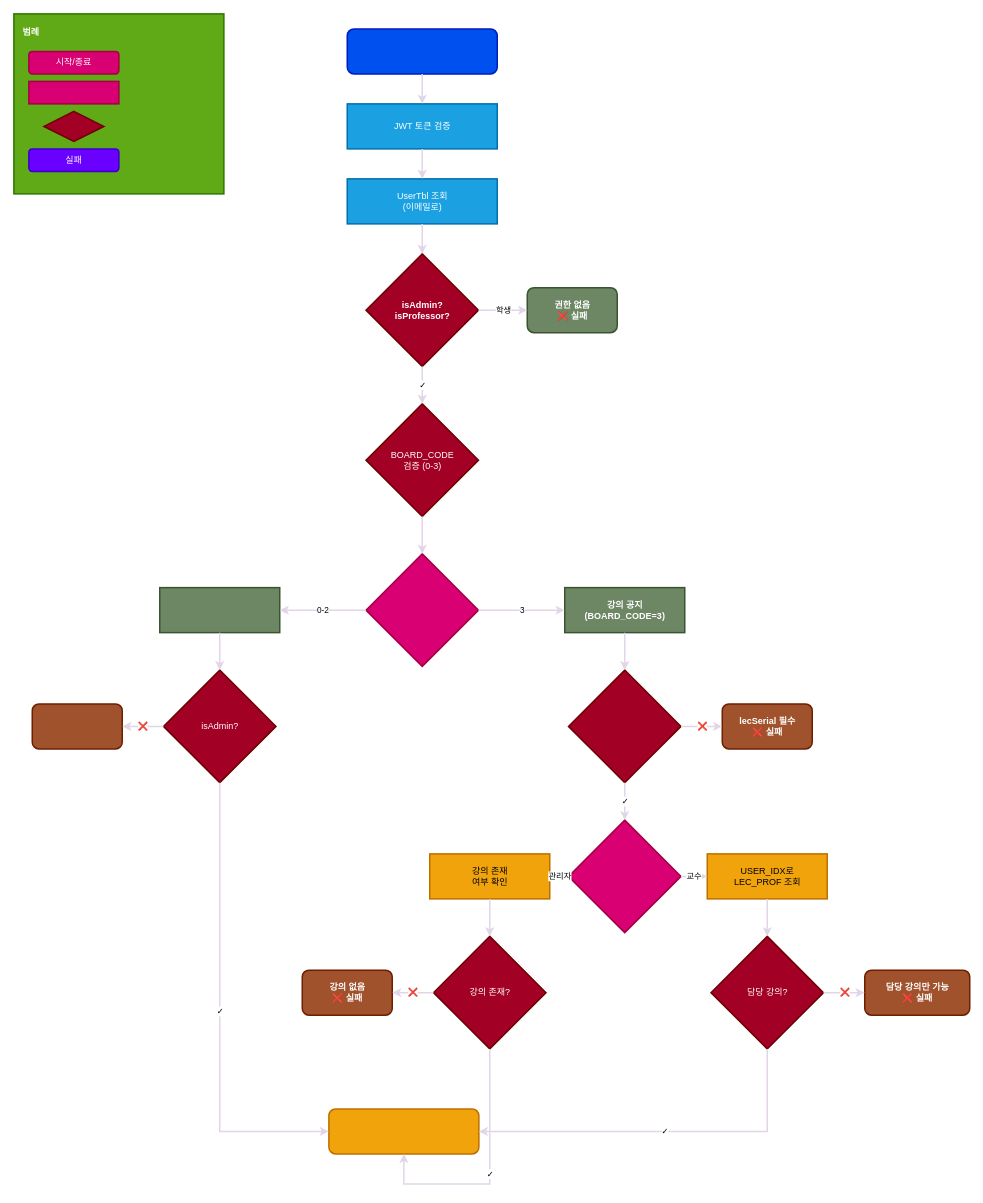
The diagram is 983 pixels wide and 1203 high, and some of its shapes have lost their labels. Each missing label, with the centre of its shape:
"BOARD_CODE?" belongs at (422,610).
"lecSerial 존재?" belongs at (624,726).
"✅ 게시글 생성 성공" belongs at (403,1131).
"게시글 생성 요청" belongs at (422,51).
"관리자 전용 검증" belongs at (219,609).
"관리자만 가능 ❌ 실패" belongs at (77,726).
"분기" belongs at (73,126).
"역할?" belongs at (624,876).
"처리" belongs at (73,92).
